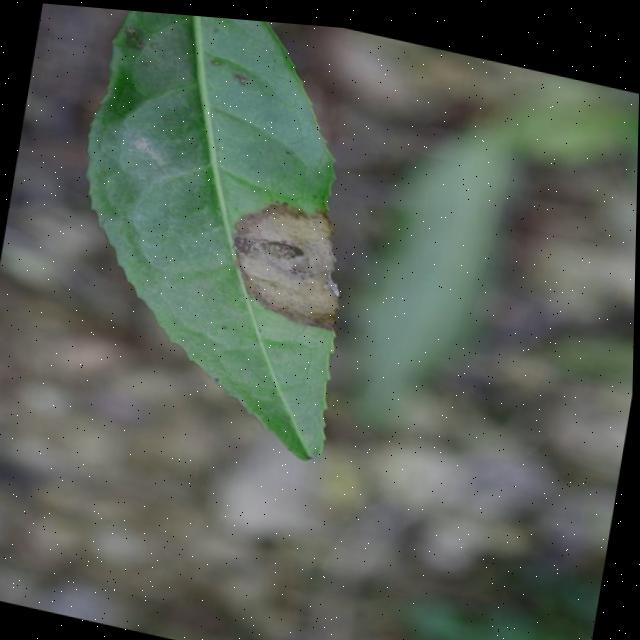Tea cloud leaf blight: (220, 189, 362, 332)
